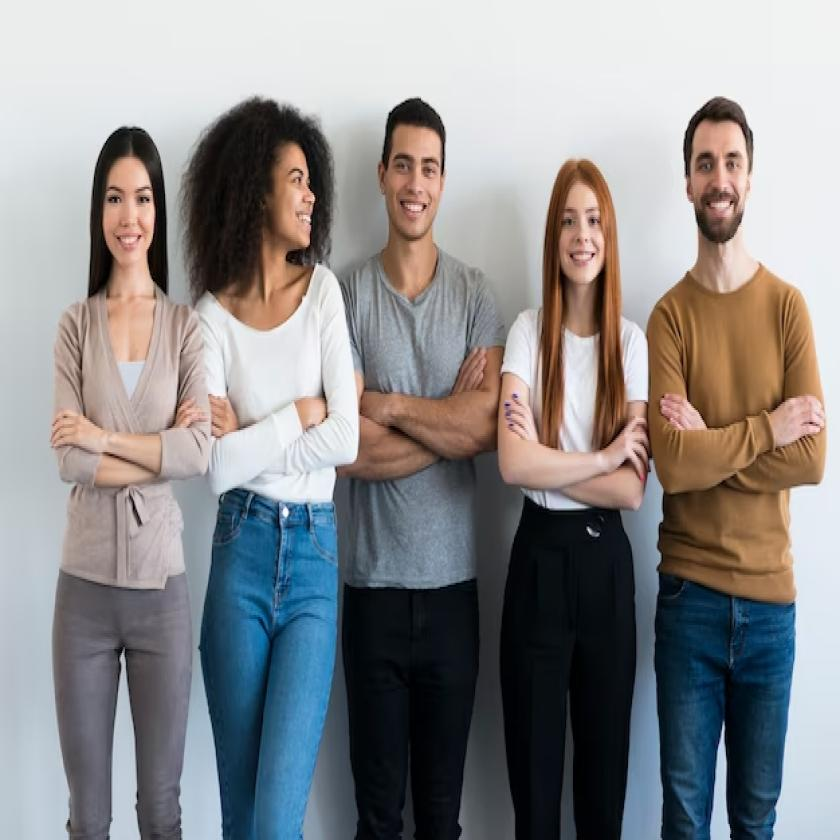Sin_casco: (213, 88, 338, 304), (675, 89, 764, 278), (84, 115, 174, 296), (541, 142, 629, 320), (389, 88, 462, 275)
